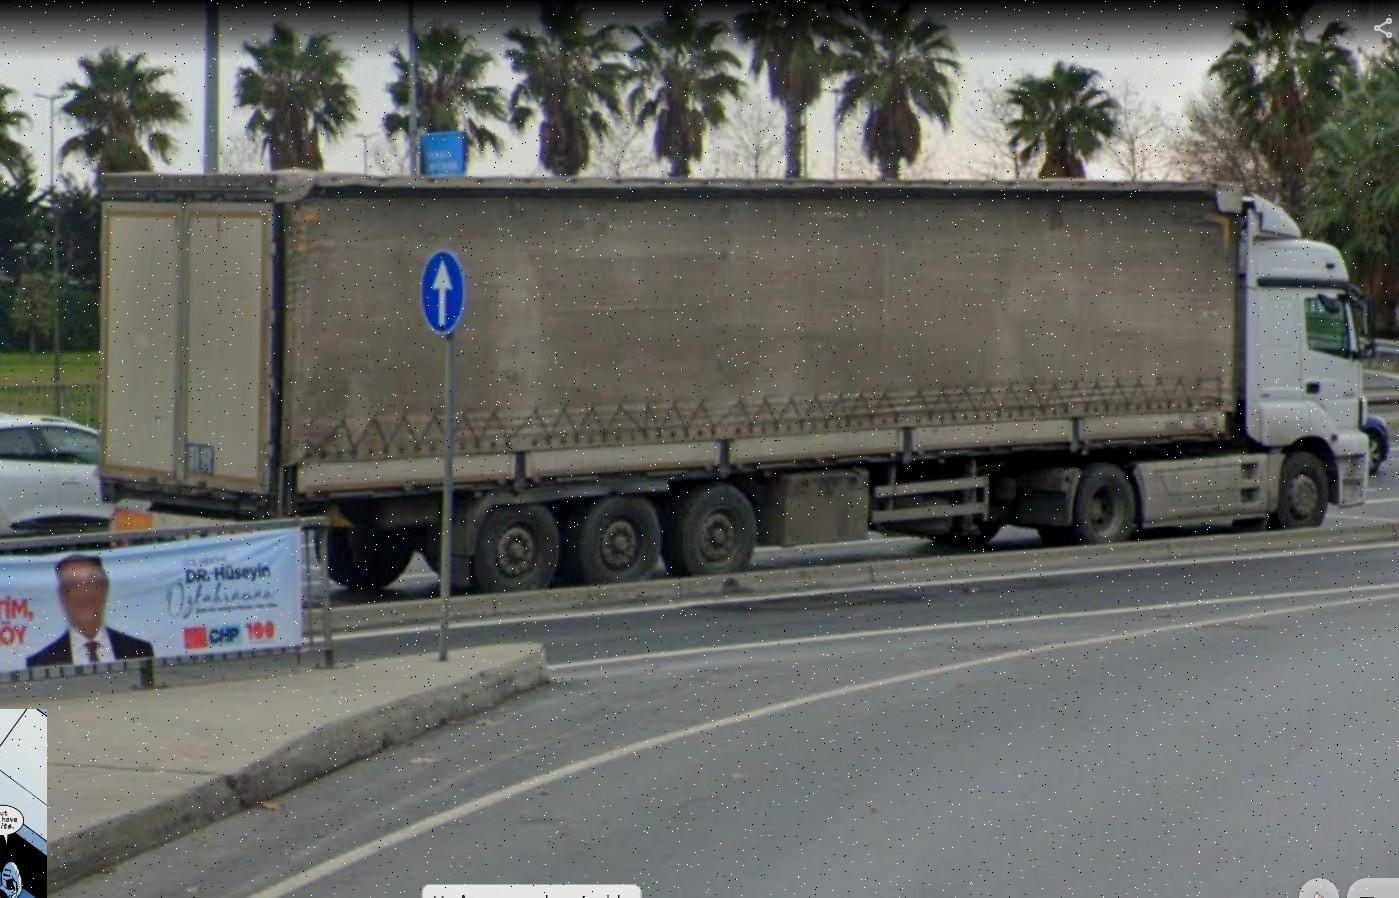forward: (425, 253, 466, 334)
